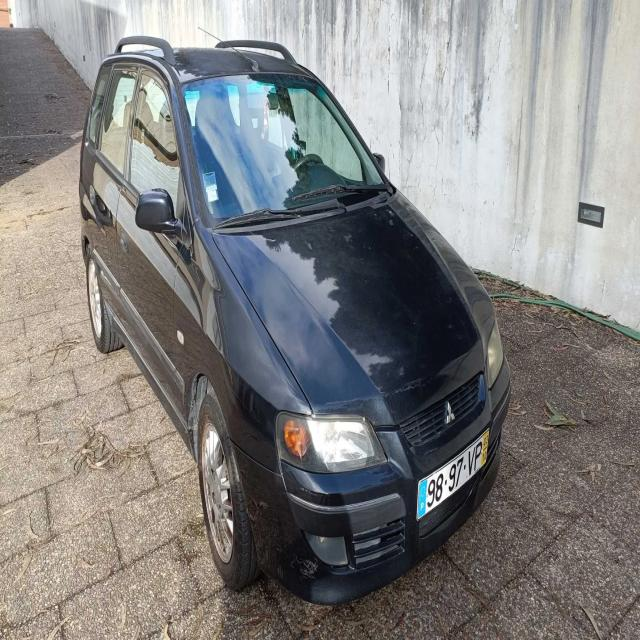portuguese-license-plates: (415, 424, 492, 530)
